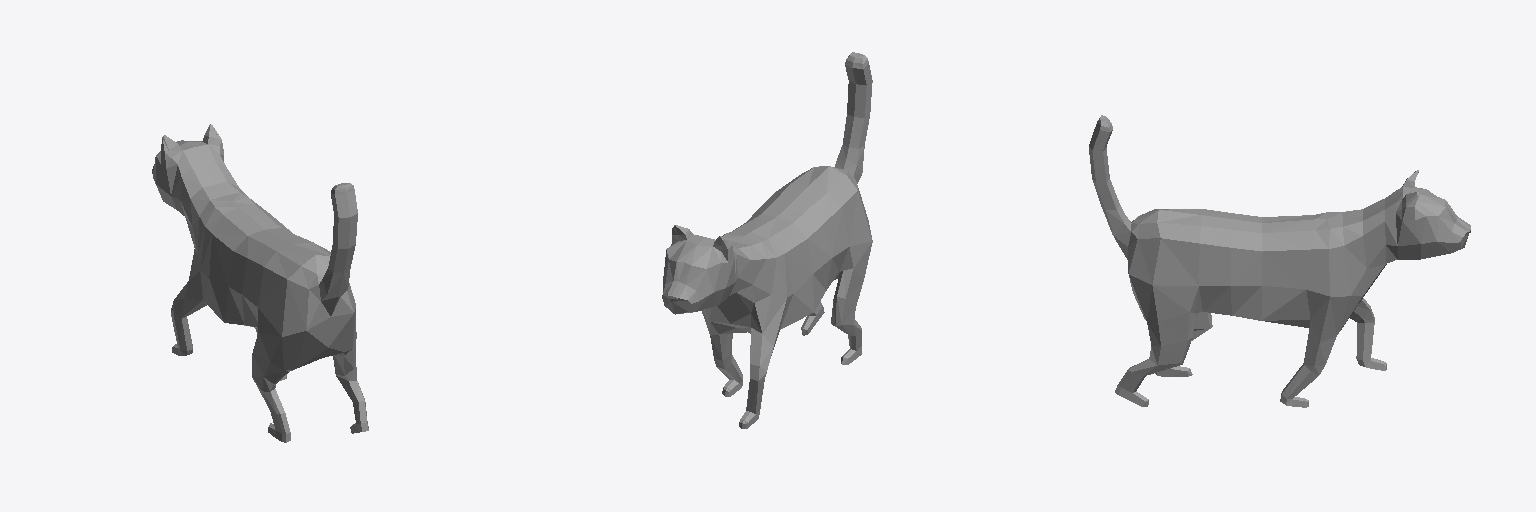
The model's file is cat_tri.obj.
3 views of the same model, side by side, from view 1: azimuth 30°, elevation 25°; view 2: azimuth 150°, elevation 25°; view 3: azimuth 270°, elevation 25° (orthographic).
Parts seen in each view (by area): view 1: Cat_Cylinder; view 2: Cat_Cylinder; view 3: Cat_Cylinder.
Boxes of the visible parts, box(x1,y1,x2,y2) form: Cat_Cylinder: box(152, 124, 368, 442); Cat_Cylinder: box(662, 52, 872, 428); Cat_Cylinder: box(1089, 115, 1470, 407).
Size of the model in its own units: 1.71 by 5.38 by 6.81.